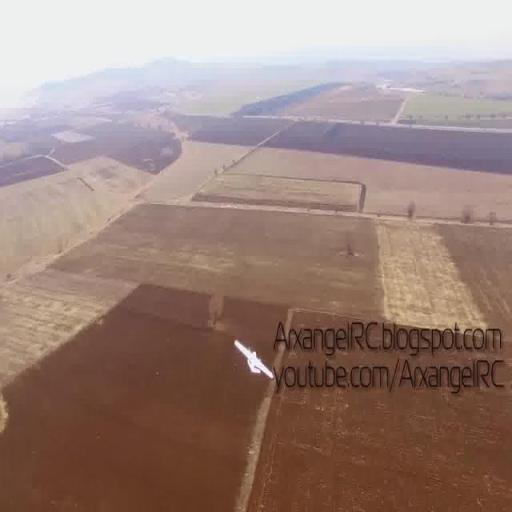uav: (219, 313, 274, 401)
